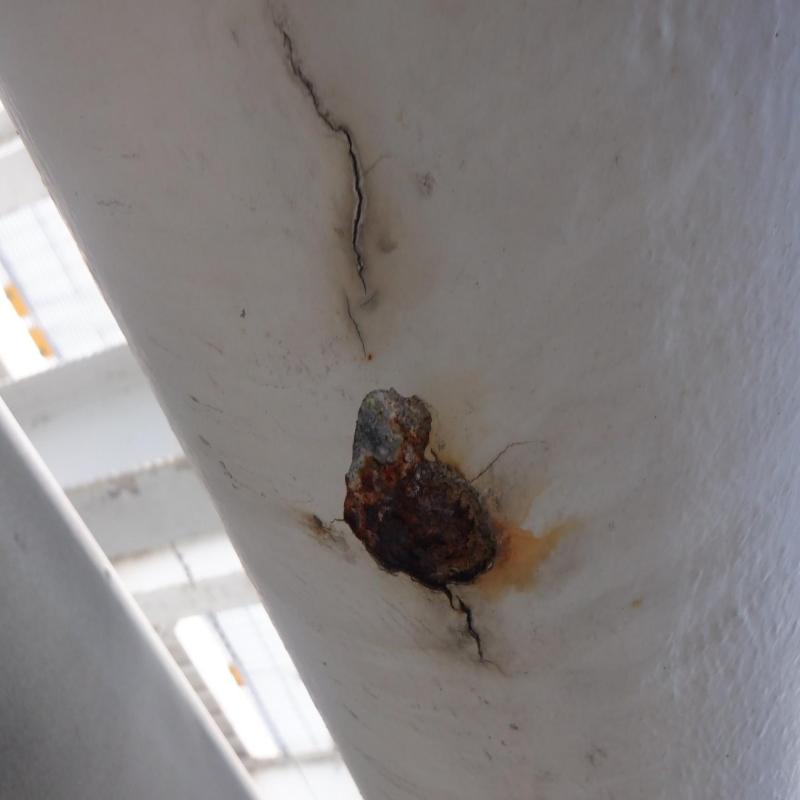Fracture: (272, 11, 390, 288)
corrosion: (355, 379, 479, 614)
